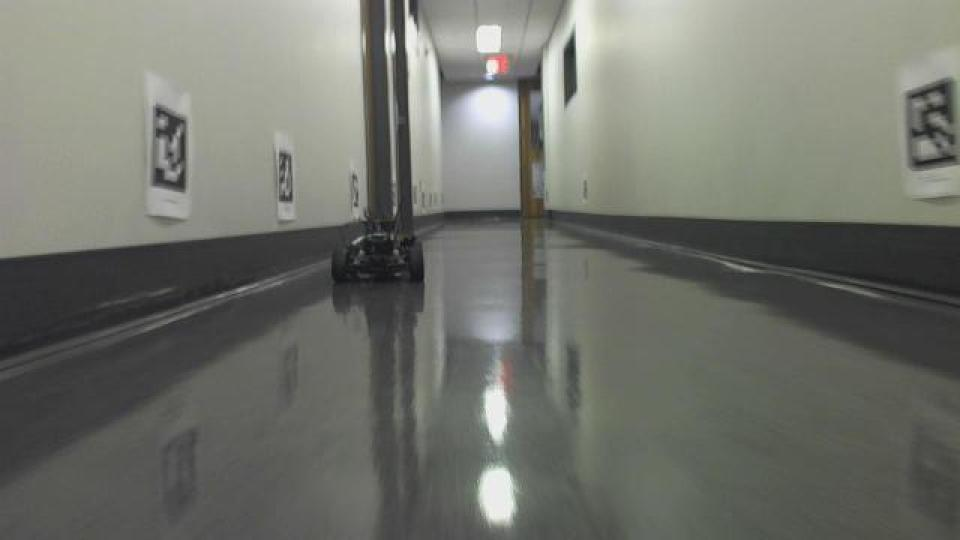car: (327, 214, 426, 288)
